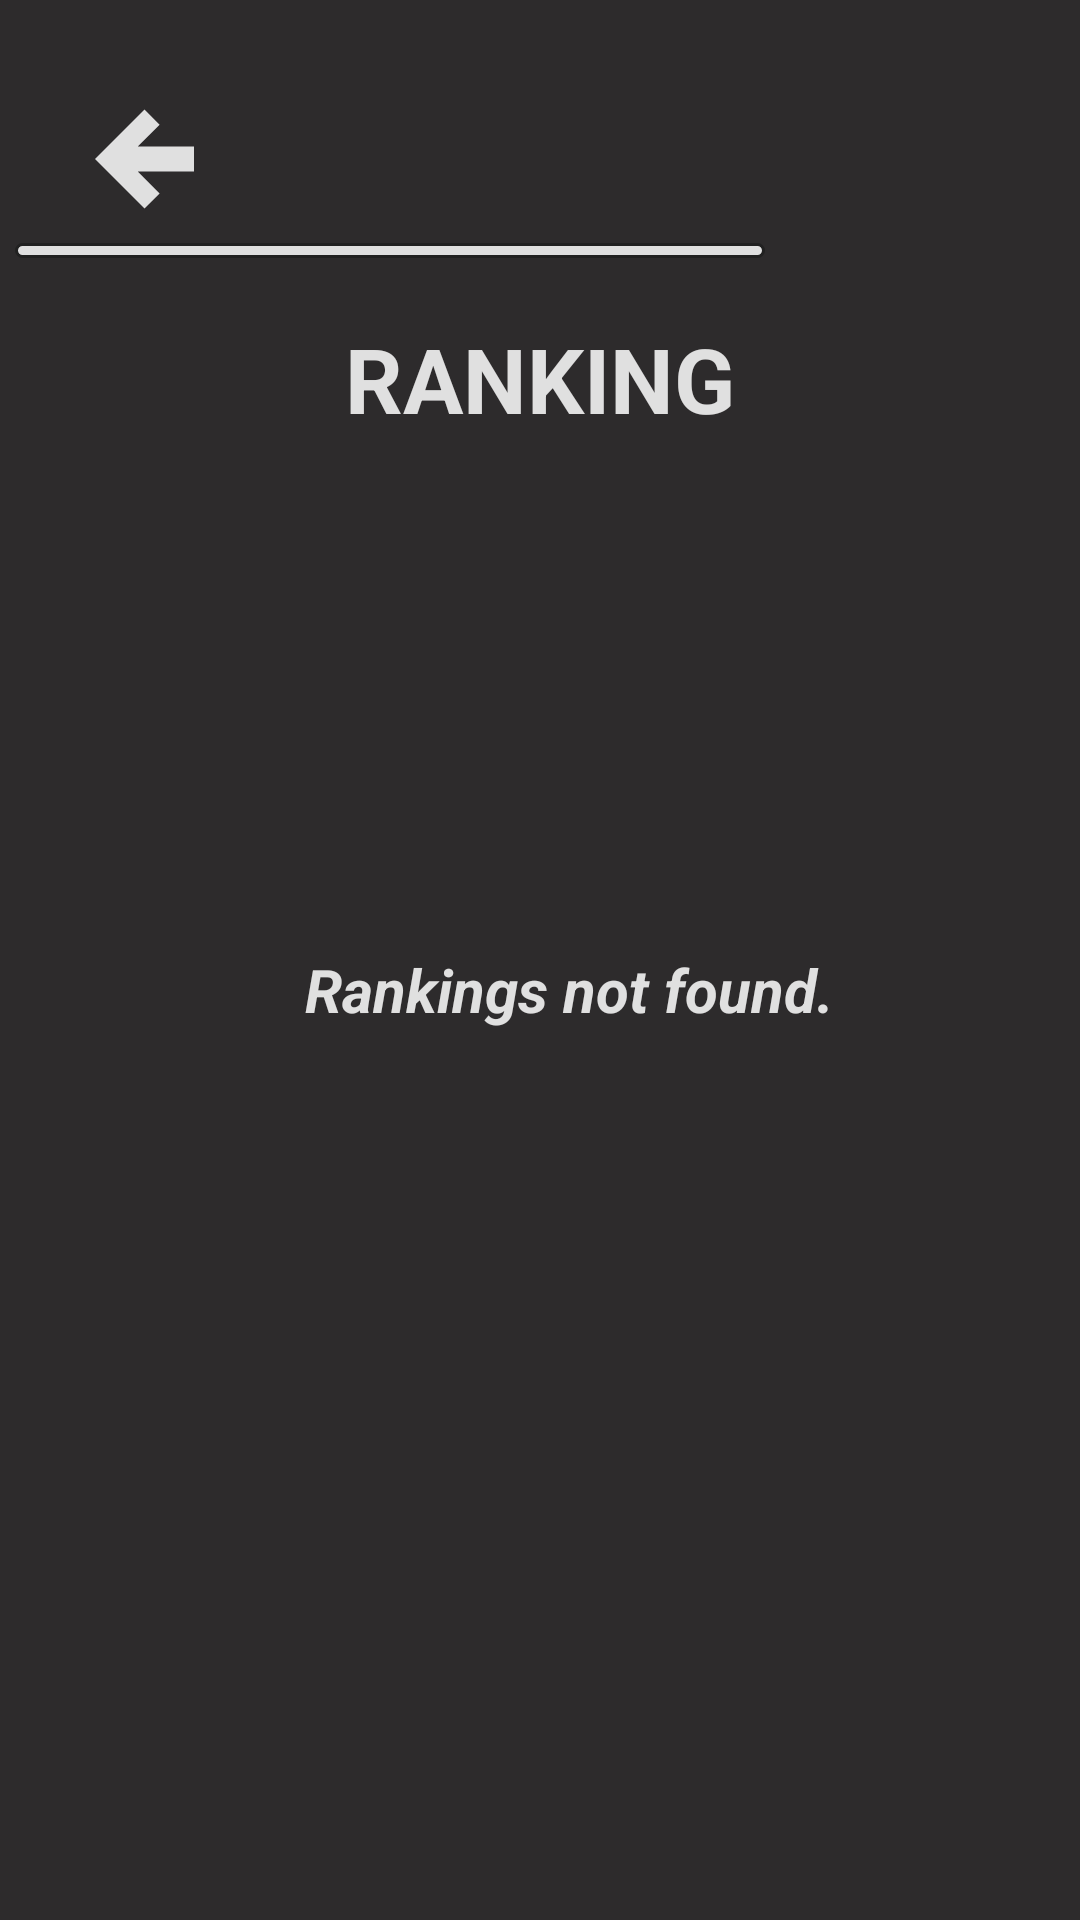

Named icons in this screenshot (1080x1920) and their bounding boxes, {"x1": x1, "y1": y1, "x2": x2, "y2": y2}:
arrow left thick: {"x1": 95, "y1": 109, "x2": 194, "y2": 209}
